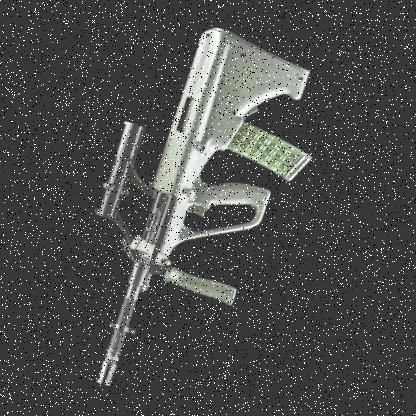rifle: (32, 1, 354, 416)
